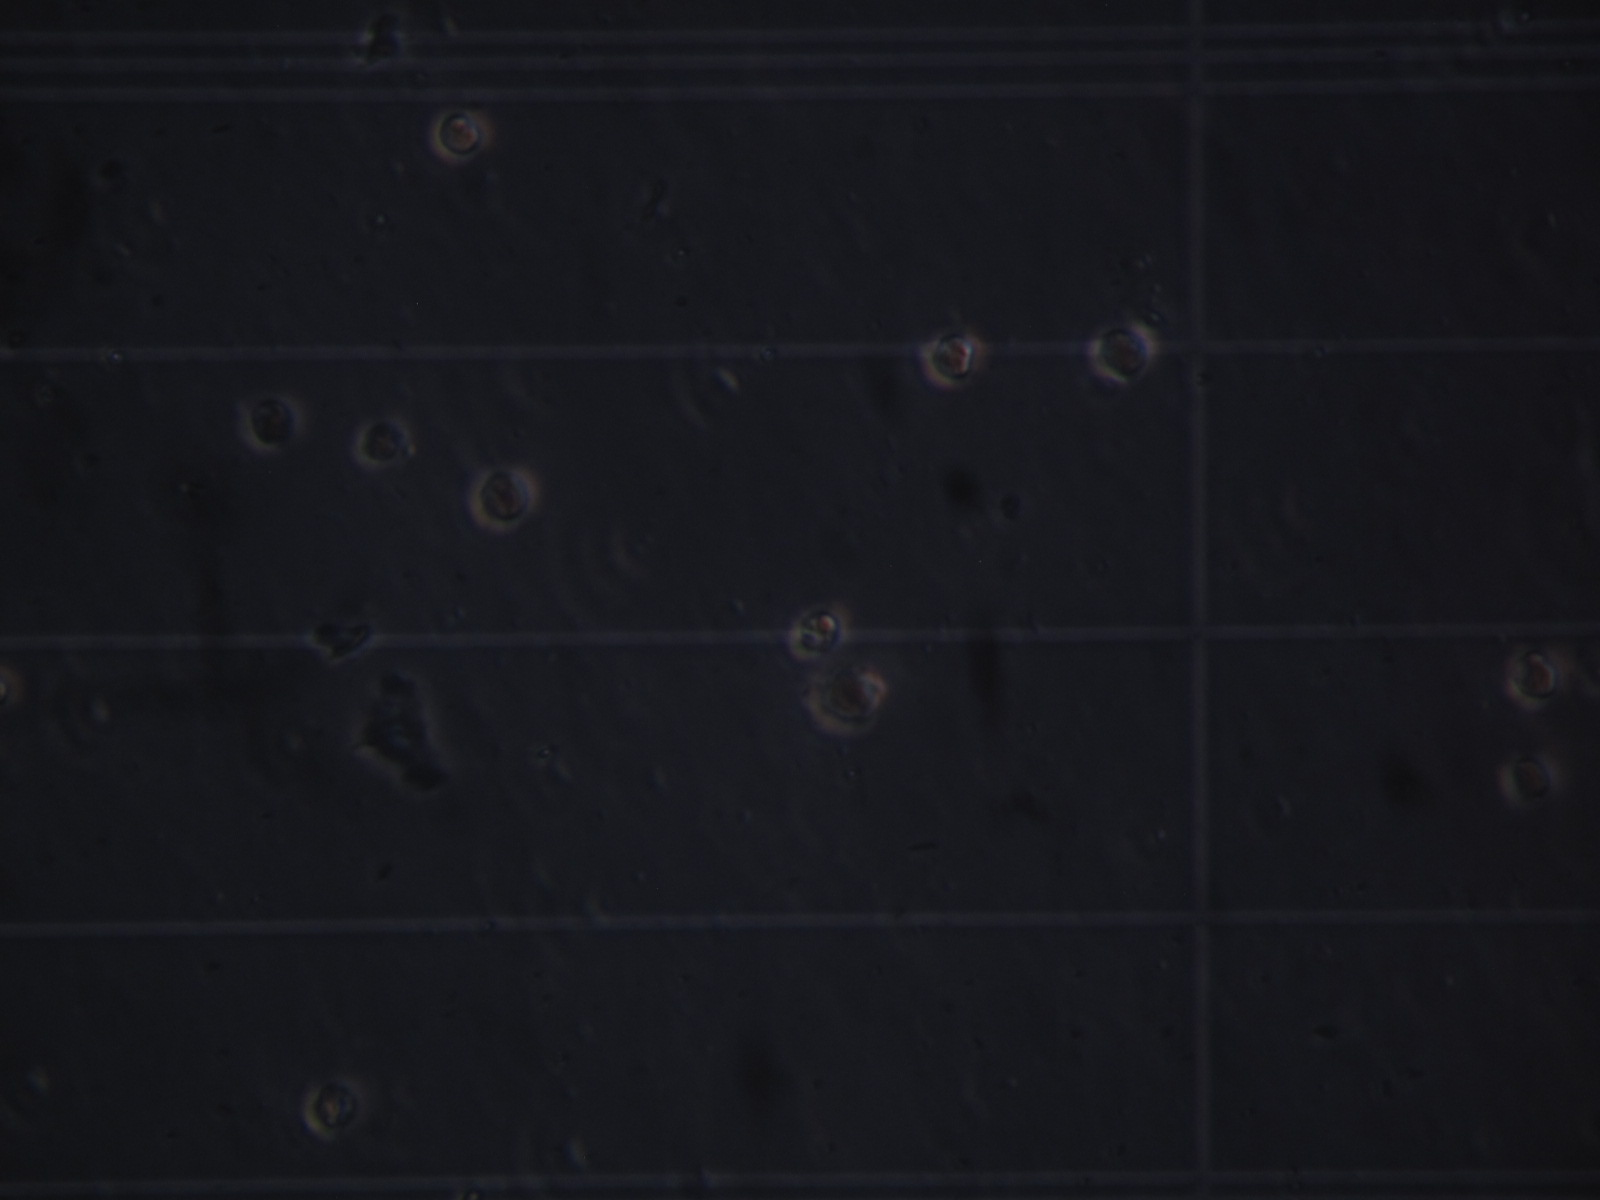hemo: (808, 667, 889, 737), (467, 463, 539, 532), (302, 1071, 370, 1142), (1495, 740, 1562, 812), (1502, 639, 1566, 712), (1089, 316, 1155, 384), (922, 329, 988, 388), (428, 103, 494, 163), (787, 604, 850, 663), (355, 413, 414, 466), (243, 396, 301, 449)
